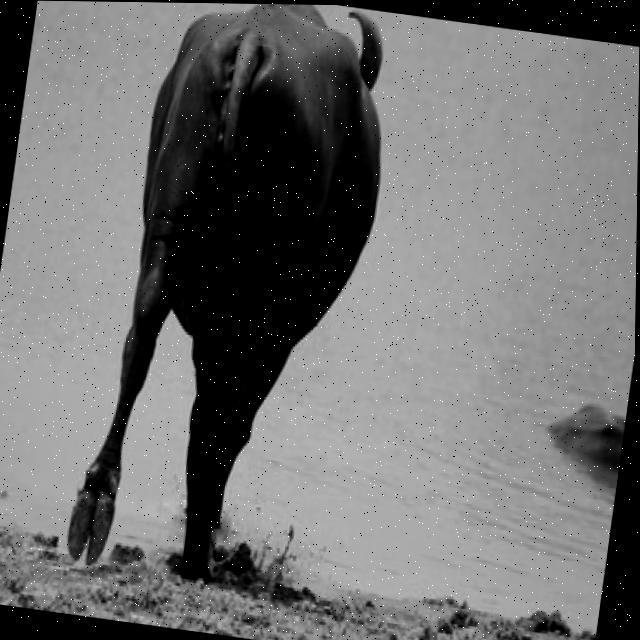Buffalo: (58, 1, 405, 598)
